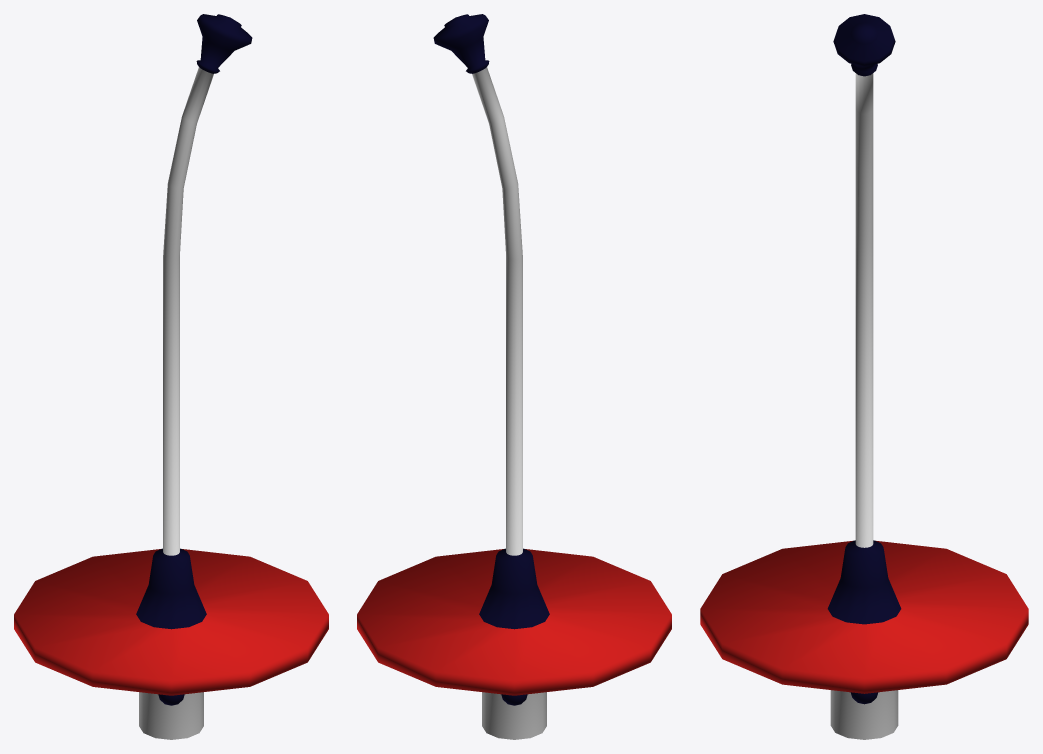
The model's file is Spinner.fbx.
The picture shows the model from 3 angles, left to right: view 1: azimuth 30°, elevation 25°; view 2: azimuth 150°, elevation 25°; view 3: azimuth 270°, elevation 25°; orthographic projection. The views are drawn at different scales.
Visible parts, largest first — view 1: Solitaire Spinner; view 2: Solitaire Spinner; view 3: Solitaire Spinner.
Part boxes in pixels (x1=…): Solitaire Spinner: x1=14, y1=14, x2=328, y2=739; Solitaire Spinner: x1=357, y1=14, x2=671, y2=739; Solitaire Spinner: x1=700, y1=14, x2=1028, y2=739.
Bounding box in the file's own units: 42.58 × 104 × 42.58.
